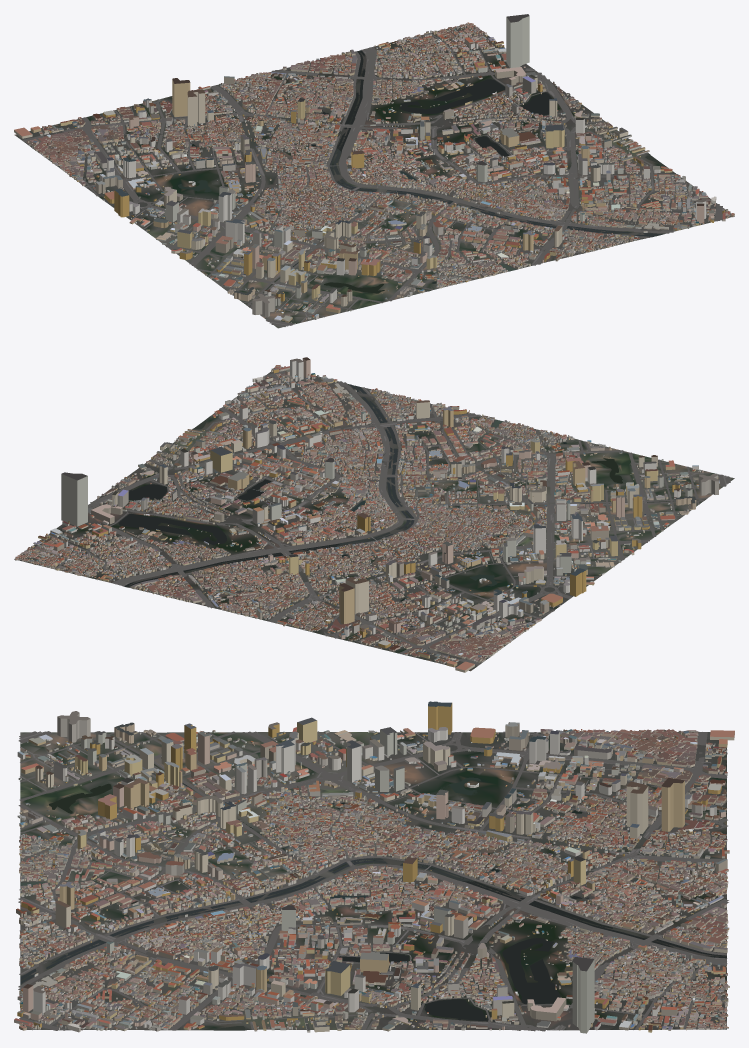
The picture shows the model from 3 angles, top to bottom: view 1: azimuth 30°, elevation 25°; view 2: azimuth 150°, elevation 25°; view 3: azimuth 270°, elevation 25°; orthographic projection. The views are drawn at different scales.
Parts seen in each view (by area): view 1: buildings, ground, roads, water; view 2: buildings, ground, roads, water; view 3: buildings, ground, roads, water.
Boxes of the visible parts, box(x1,y1,x2,y2) form: buildings: box(14, 14, 734, 323); ground: box(14, 24, 734, 328); roads: box(22, 33, 722, 326); water: box(32, 50, 662, 306); buildings: box(15, 357, 719, 672); ground: box(14, 371, 734, 671); roads: box(30, 370, 730, 665); water: box(118, 384, 705, 626); buildings: box(14, 701, 734, 1033); ground: box(20, 732, 726, 1030); roads: box(18, 731, 728, 1031); water: box(20, 739, 726, 1030).
Bounding box in the file's own units: 2862 × 278 × 2860.
